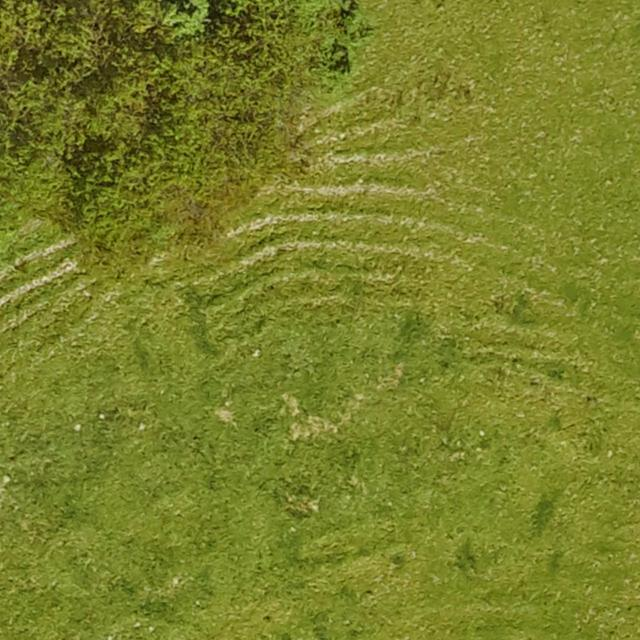tree: (0, 0, 370, 253)
